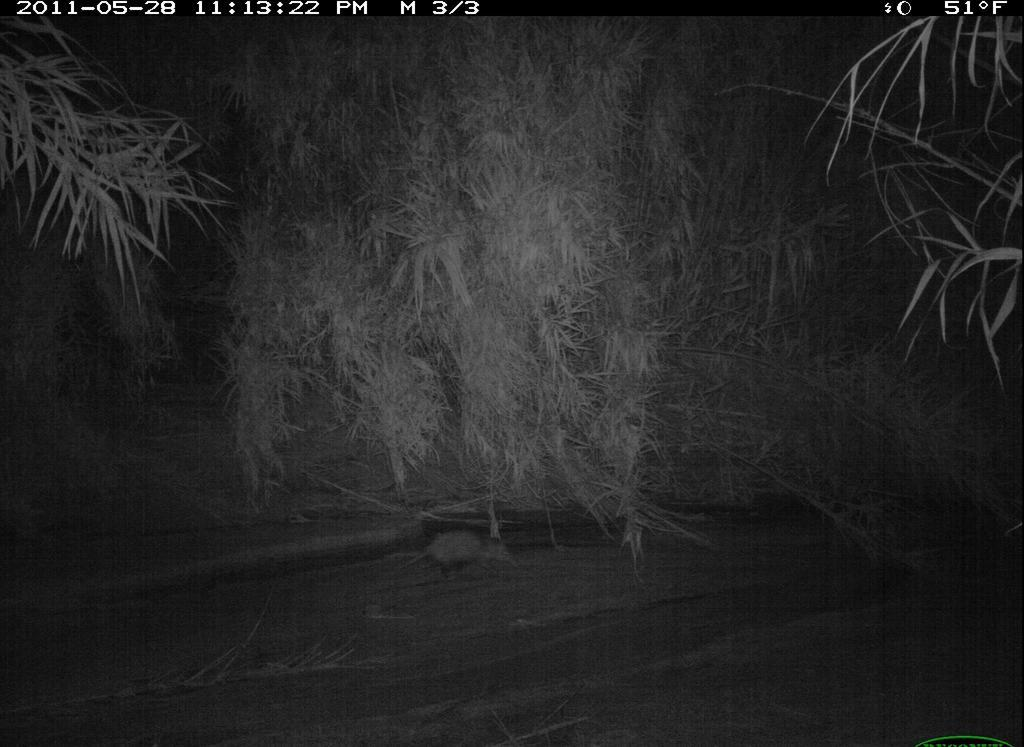opossum: (402, 525, 521, 594)
